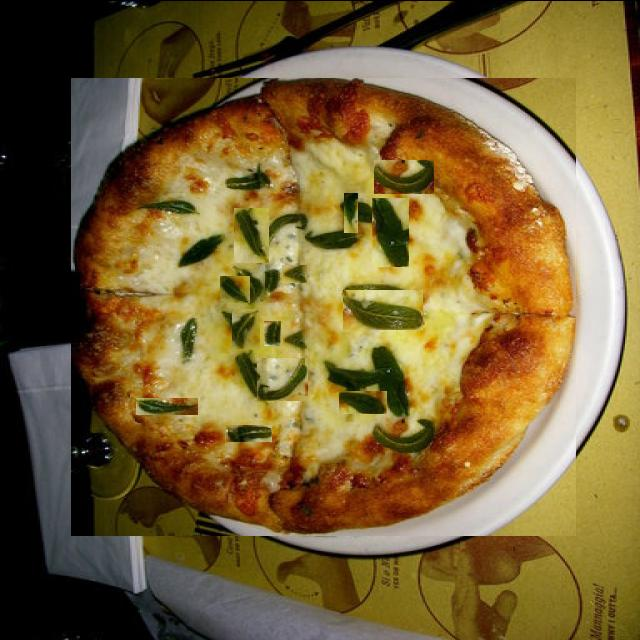basil: (343, 289, 423, 329), (372, 197, 409, 266), (257, 357, 308, 400), (374, 159, 434, 193), (234, 207, 269, 262), (324, 223, 381, 252), (178, 346, 223, 378), (339, 388, 387, 412), (232, 308, 260, 348), (136, 397, 198, 414), (307, 363, 356, 382), (226, 422, 272, 440), (220, 275, 250, 302), (180, 249, 196, 296), (344, 192, 358, 232), (282, 264, 307, 282), (264, 320, 281, 345)
pizza: (71, 77, 576, 535)
